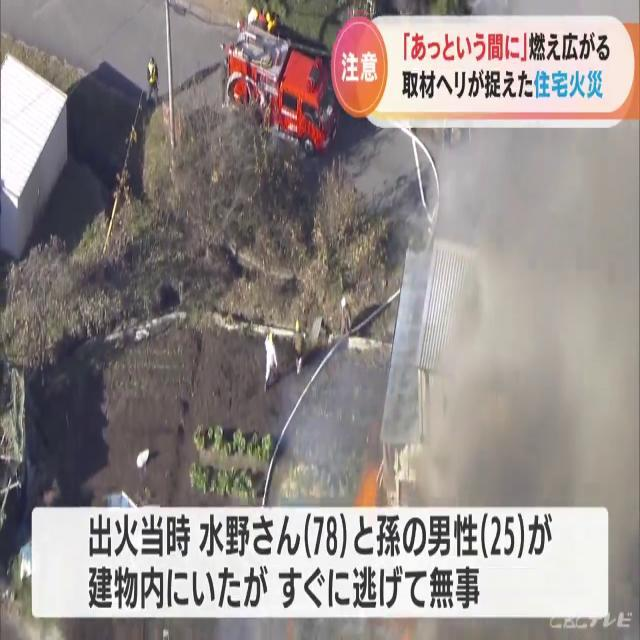Smoke: (372, 116, 638, 514)
